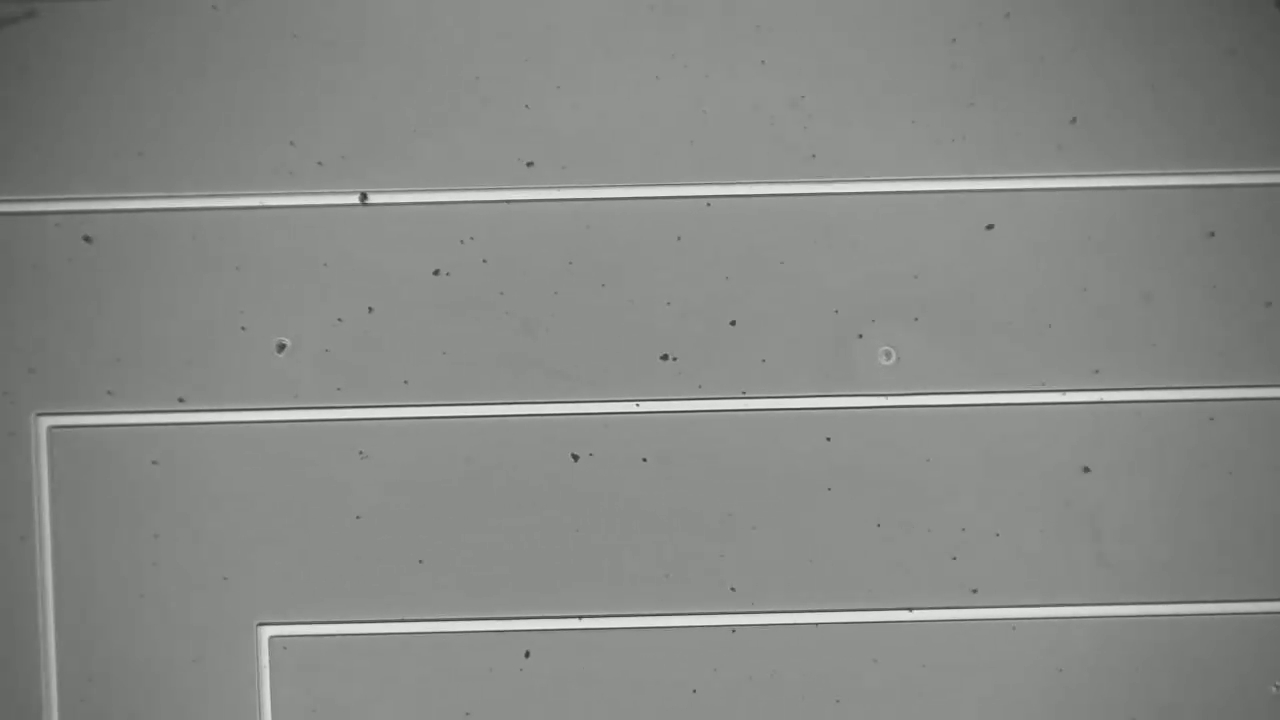stains_enbedded: (351, 182, 384, 215)
